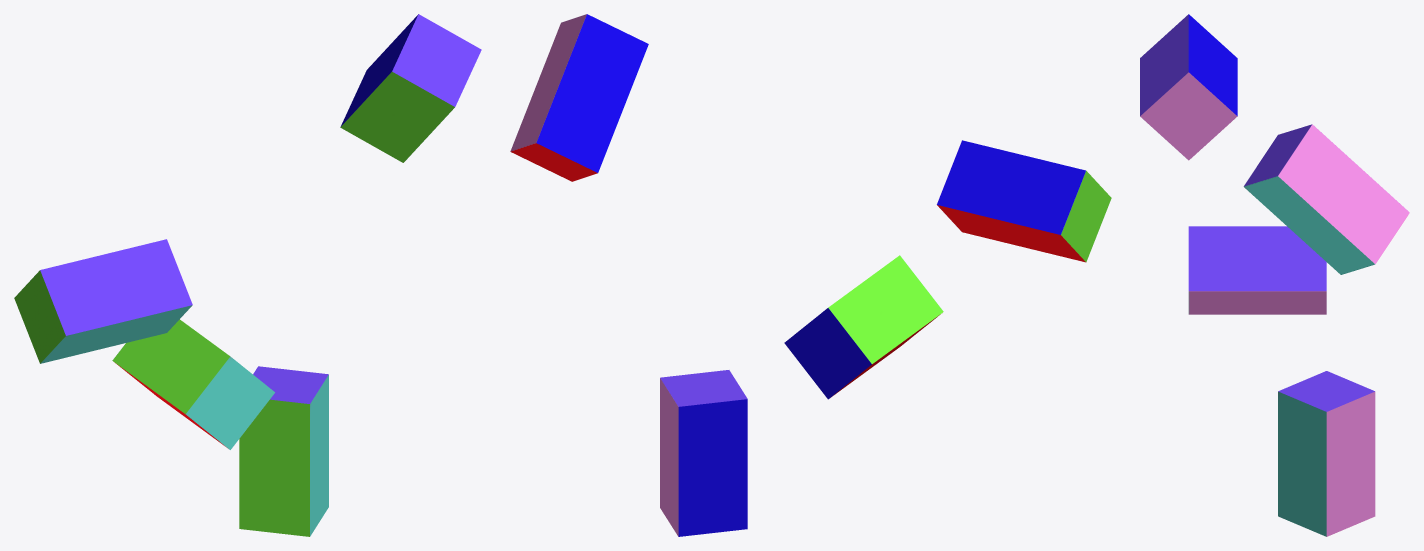
Rendered from cubes.gltf.
3 renders of one model, left to right at view 1: azimuth 30°, elevation 25°; view 2: azimuth 150°, elevation 25°; view 3: azimuth 270°, elevation 25°, orthographic. The views are drawn at different scales.
Parts seen in each view (by area): view 1: Cube1, Cube3, Cube4, Cube2; view 2: Cube1, Cube4, Cube3, Cube2; view 3: Cube3, Cube4, Cube2, Cube1.
Boxes of the visible parts, bbox=[...] form: Cube1: bbox=[14, 239, 192, 363]; Cube3: bbox=[239, 366, 328, 536]; Cube4: bbox=[340, 14, 481, 162]; Cube2: bbox=[112, 319, 274, 449]; Cube1: bbox=[936, 140, 1111, 262]; Cube4: bbox=[510, 14, 648, 181]; Cube3: bbox=[660, 370, 747, 536]; Cube2: bbox=[784, 255, 943, 399]; Cube3: bbox=[1278, 371, 1375, 536]; Cube4: bbox=[1243, 124, 1409, 274]; Cube2: bbox=[1188, 226, 1326, 314]; Cube1: bbox=[1140, 14, 1237, 160].
Bounding box in the file's own units: 7.71 × 7.21 × 3.91.
1 material, 1 textured.
